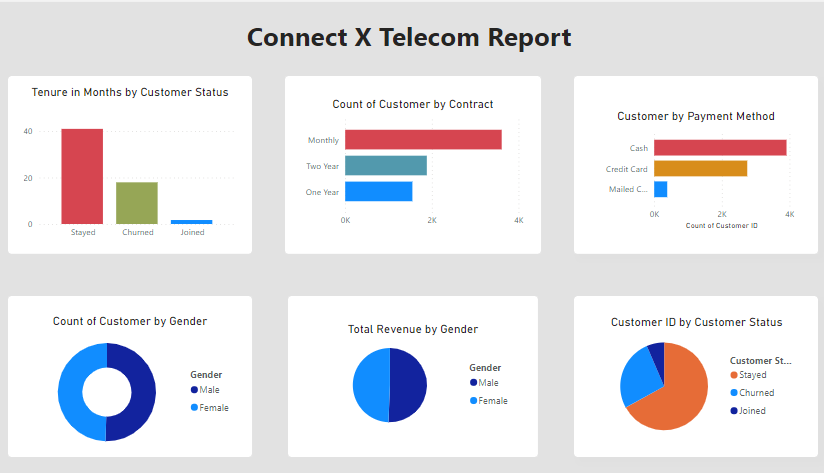

The dashboard page shown, as its layout file describes it:
{"tool":"powerbi","page":{"name":"Page 1","canvas":[1280,720],"ordinal":0},"visuals":[{"type":"shape","box":[835.7,420,348.6,230],"z":0},{"type":"shape","box":[427.1,420,357.1,230],"z":1000},{"type":"shape","box":[27.1,420,348.6,230],"z":2000},{"type":"shape","box":[835.7,105.7,348.6,254.3],"z":3000},{"type":"shape","box":[422.9,105.7,365.7,254.3],"z":4000},{"type":"shape","box":[27.1,105.7,348.6,254.3],"z":5000},{"type":"pieChart","title":"Customer ID by Customer Status","fields":{"Category":["Details.Customer Status"],"Y":["CountNonNull(Details.Customer ID)"]},"box":[864.3,445.7,291.4,185.7],"z":6000},{"type":"donutChart","title":"Count of Customer by Gender","fields":{"Category":["Details.Gender"],"Y":["CountNonNull(Details.Customer ID)"]},"box":[44.3,445.7,314.3,204.3],"z":7000},{"type":"clusteredColumnChart","title":"Tenure in Months by Customer Status","fields":{"Category":["Details.Customer Status"],"Y":["Avg(Details.Tenure in Months)"]},"box":[44.3,118.6,314.3,228.6],"z":8000},{"type":"clusteredBarChart","title":"Count of Customer by Contract","fields":{"Category":["Details.Contract"],"Y":["CountNonNull(Details.Customer ID)"]},"box":[442.9,135.7,325.7,194.3],"z":9000},{"type":"clusteredBarChart","title":"Customer by Payment Method","fields":{"Category":["Details.Payment Method"],"Y":["CountNonNull(Details.Customer ID)"]},"box":[864.3,152.9,291.4,177.1],"z":10000},{"type":"pieChart","title":"Total Revenue by Gender","fields":{"Y":["Sum(Details.Total Revenue)"],"Category":["Details.Gender"]},"box":[454.3,457.1,302.9,161.4],"z":11000},{"type":"textbox","box":[44.3,17.1,1111.4,77.1],"z":12000}]}

Visuals, with their boxes in screenshot pixels (x1, y1, x2, y2), scaled from the page's 1280x720 canvas onto the 824x473 screenshot:
shape: left=538, top=276, right=762, bottom=427
shape: left=275, top=276, right=505, bottom=427
shape: left=17, top=276, right=242, bottom=427
shape: left=538, top=69, right=762, bottom=236
shape: left=272, top=69, right=508, bottom=236
shape: left=17, top=69, right=242, bottom=236
"Customer ID by Customer Status" pieChart: left=556, top=293, right=744, bottom=415
"Count of Customer by Gender" donutChart: left=29, top=293, right=231, bottom=427
"Tenure in Months by Customer Status" clusteredColumnChart: left=29, top=78, right=231, bottom=228
"Count of Customer by Contract" clusteredBarChart: left=285, top=89, right=495, bottom=217
"Customer by Payment Method" clusteredBarChart: left=556, top=100, right=744, bottom=217
"Total Revenue by Gender" pieChart: left=292, top=300, right=487, bottom=406
textbox: left=29, top=11, right=744, bottom=62
